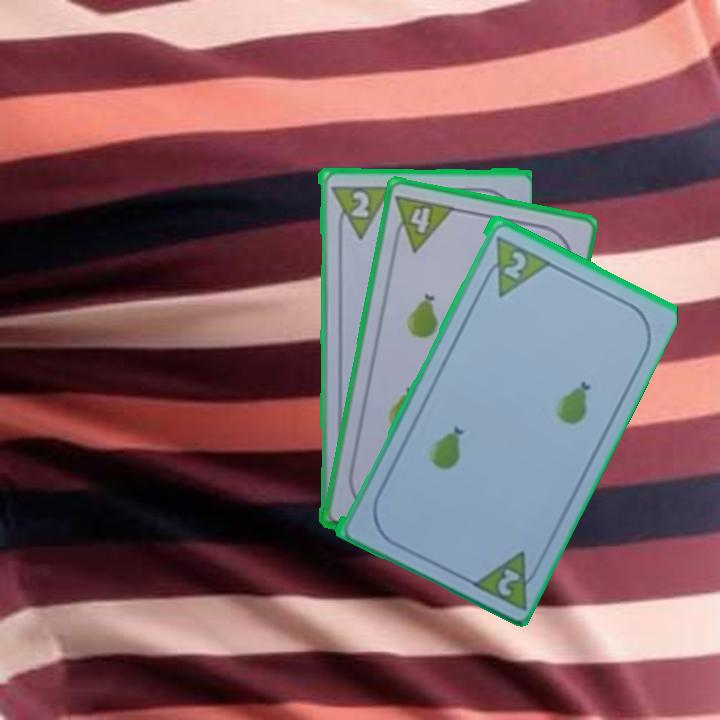2p: (499, 247, 529, 282), (493, 564, 523, 599), (348, 187, 372, 220)
4p: (388, 191, 457, 255)
